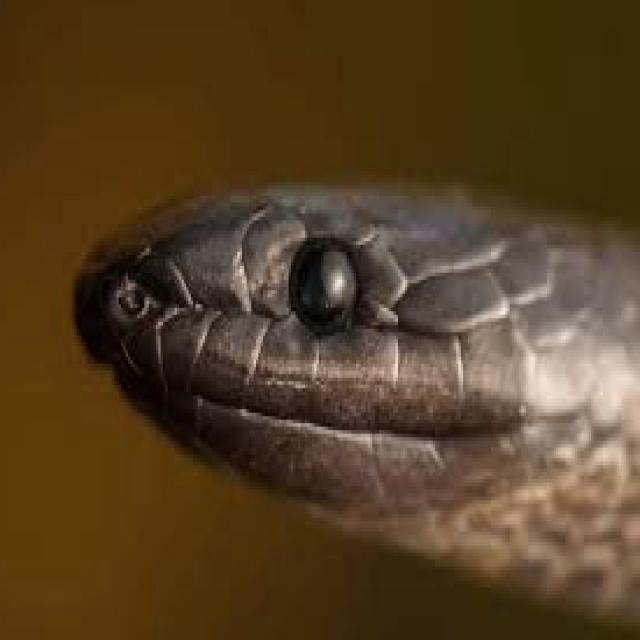snake: (77, 185, 640, 612)
